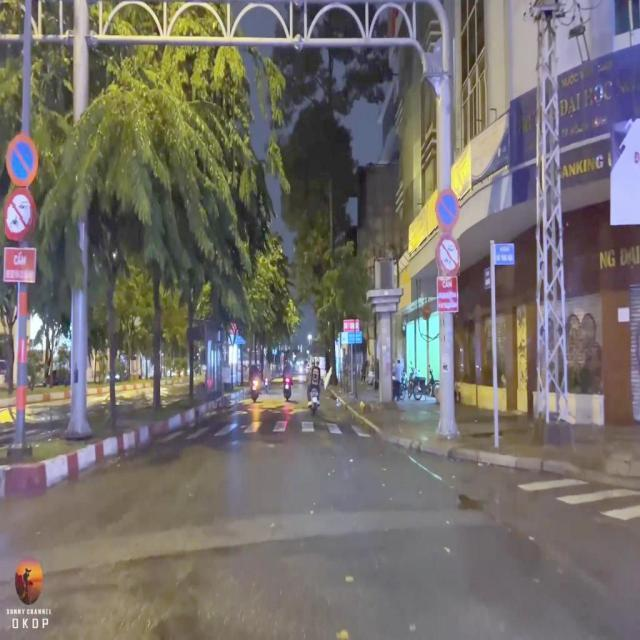131a-cam-do-xe: (5, 132, 38, 186), (434, 189, 459, 231)
